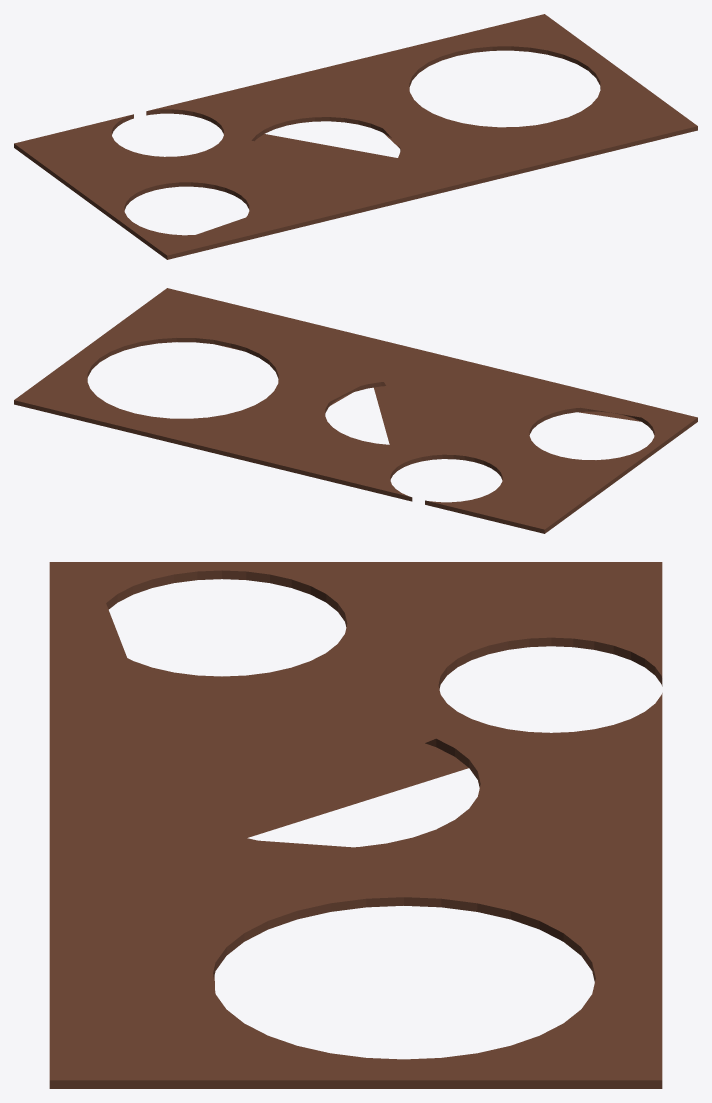
The model's file is Anayuka 1.fbx.
3 views of the same model, one above another, from view 1: azimuth 30°, elevation 25°; view 2: azimuth 150°, elevation 25°; view 3: azimuth 270°, elevation 25° (orthographic). The views are drawn at different scales.
Parts seen in each view (by area): view 1: Cube; view 2: Cube; view 3: Cube.
Boxes of the visible parts, bbox=[...] form: Cube: bbox=[14, 14, 697, 259]; Cube: bbox=[14, 288, 697, 533]; Cube: bbox=[49, 562, 662, 1088].
Size of the model in its own units: 52 by 0.4051 by 26.
